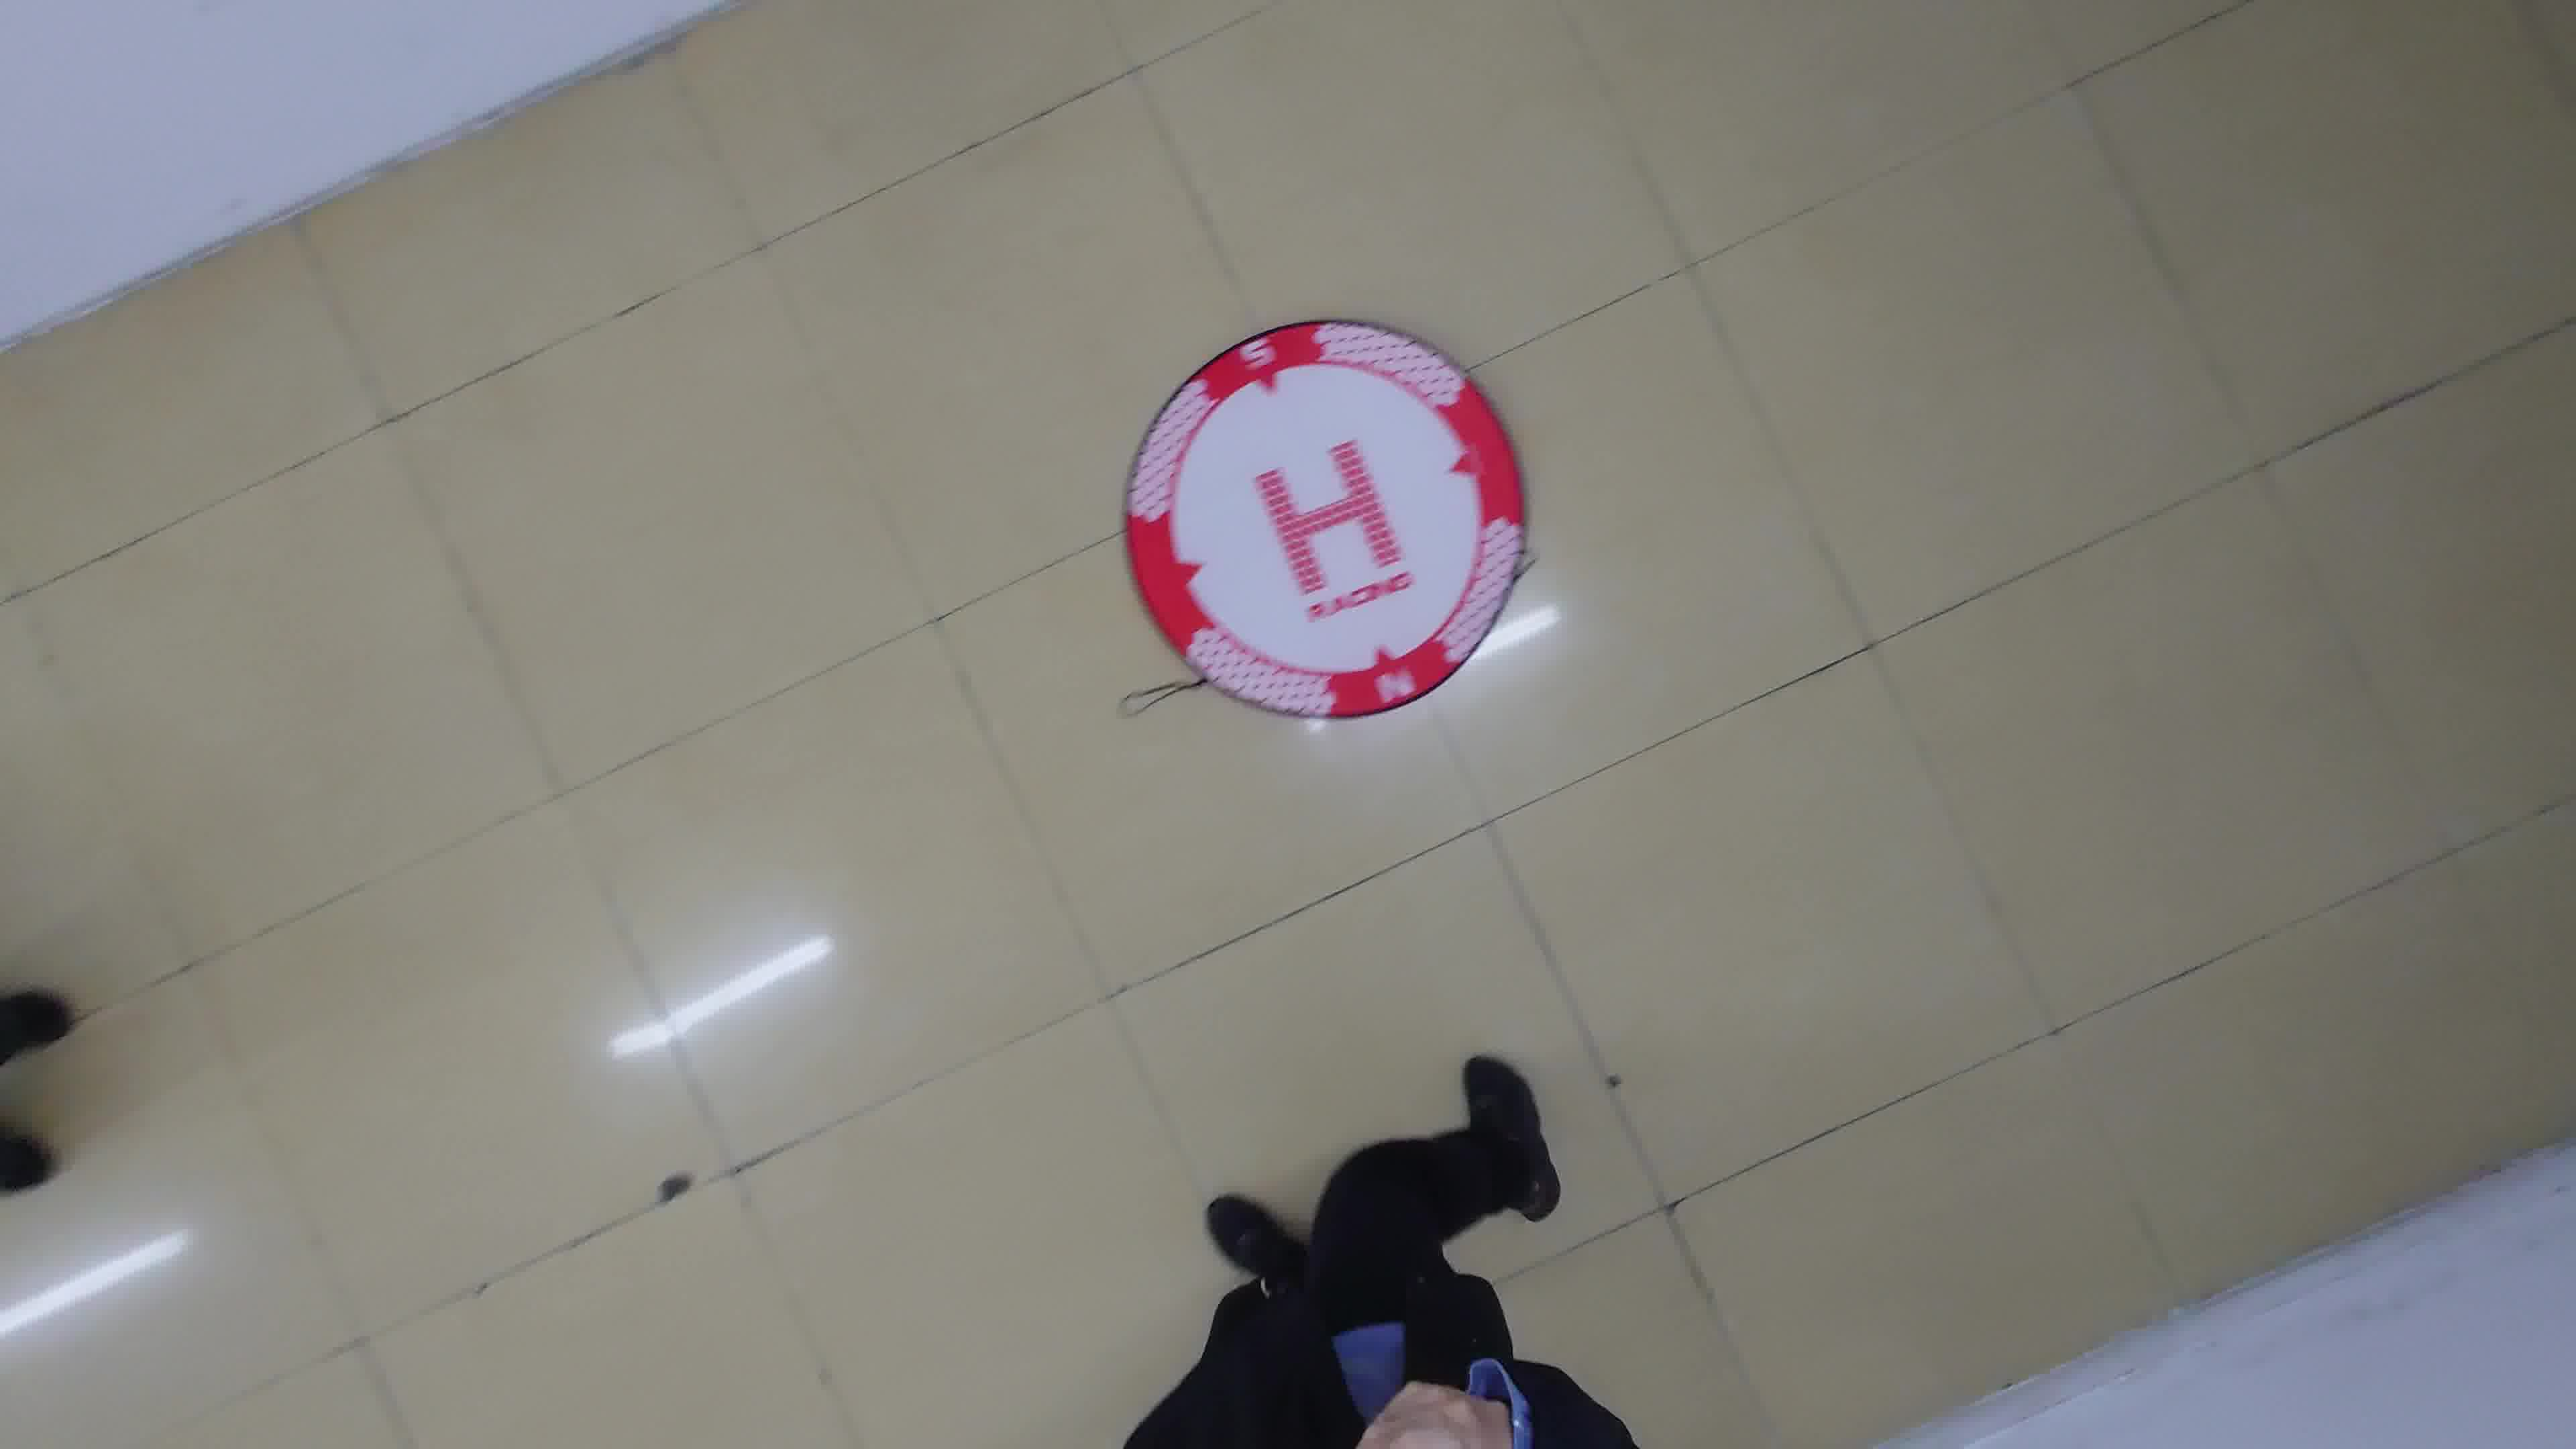H: (1254, 439, 1403, 600)
